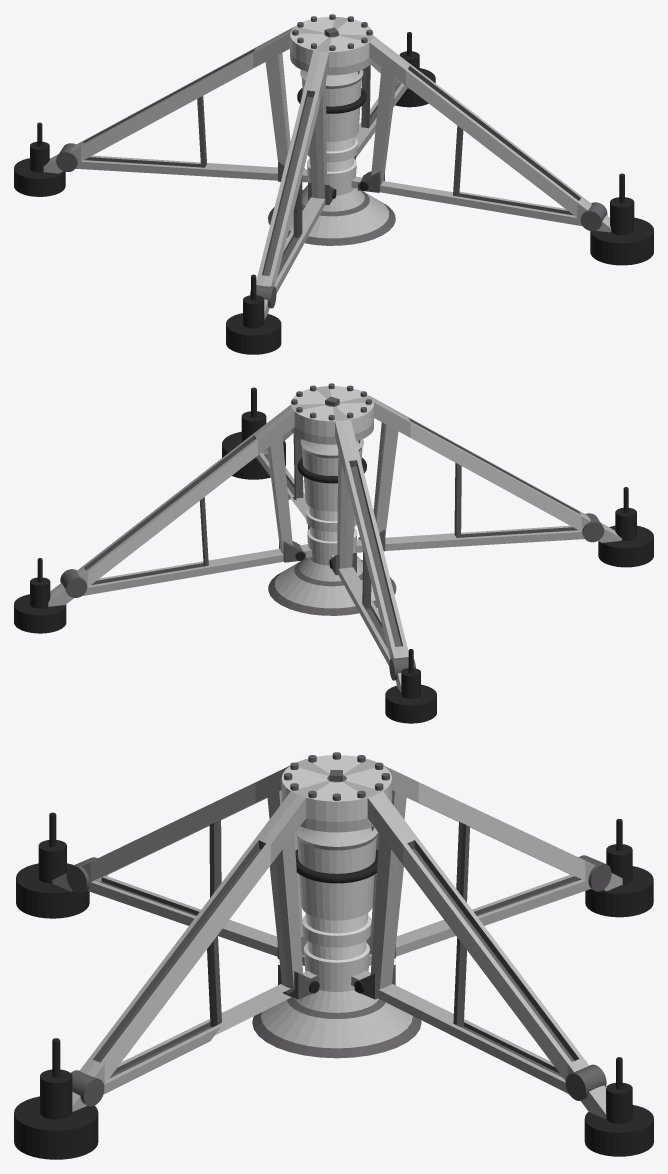
File: Radar_Jammer_Small_Constr2.fbx
3 renders of one model, top to bottom at view 1: azimuth 30°, elevation 25°; view 2: azimuth 150°, elevation 25°; view 3: azimuth 270°, elevation 25°, orthographic. The views are drawn at different scales.
Parts seen in each view (by area): view 1: Cylinder.242, Cylinder.240, Cylinder.239, Cylinder.238, Cylinder.241, Cylinder.234; view 2: Cylinder.242, Cylinder.239, Cylinder.238, Cylinder.241, Cylinder.240, Cylinder.237; view 3: Cylinder.242, Cylinder.240, Cylinder.239, Cylinder.241, Cylinder.238, Cylinder.237, Cylinder.234, Cylinder.249, Cylinder.235, Cylinder.236.
Part boxes in pixels (<box>): Cylinder.242: <box>43,17,611,319</box>; Cylinder.240: <box>590,173,653,265</box>; Cylinder.239: <box>226,274,281,354</box>; Cylinder.238: <box>14,122,65,196</box>; Cylinder.241: <box>395,32,435,107</box>; Cylinder.234: <box>580,202,607,231</box>; Cylinder.242: <box>48,386,621,692</box>; Cylinder.239: <box>598,487,653,567</box>; Cylinder.238: <box>385,649,436,723</box>; Cylinder.241: <box>14,558,66,633</box>; Cylinder.240: <box>222,387,285,479</box>; Cylinder.237: <box>60,569,87,597</box>; Cylinder.242: <box>52,755,622,1118</box>; Cylinder.240: <box>14,1038,98,1159</box>; Cylinder.239: <box>16,812,89,918</box>; Cylinder.241: <box>584,1057,653,1156</box>; Cylinder.238: <box>585,819,653,917</box>; Cylinder.237: <box>565,1064,606,1100</box>; Cylinder.234: <box>71,1070,104,1106</box>; Cylinder.249: <box>284,752,389,800</box>; Cylinder.235: <box>579,855,611,891</box>; Cylinder.236: <box>66,857,107,893</box>.
Bounding box in the file's own units: 1.78 × 0.7618 × 1.77.
